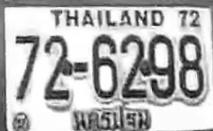2: (121, 34, 148, 99), (44, 35, 72, 97)
6: (92, 34, 118, 99)
7: (14, 34, 40, 100)
8: (178, 34, 204, 101)
9: (148, 35, 174, 98)
NPT: (68, 103, 151, 131)
